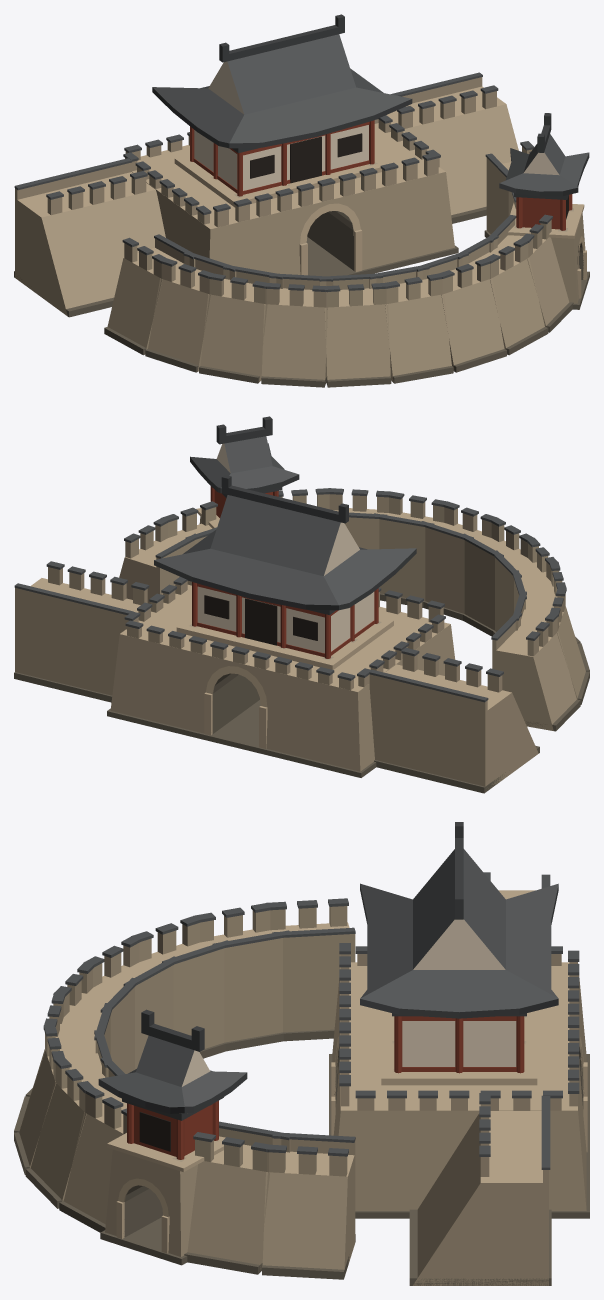
The model's file is K05b_far.glb.
3 views of the same model, one above another, from view 1: azimuth 30°, elevation 25°; view 2: azimuth 150°, elevation 25°; view 3: azimuth 270°, elevation 25° (orthographic). The views are drawn at different scales.
Parts seen in each view (by area): view 1: K05b_far; view 2: K05b_far; view 3: K05b_far.
Part boxes in pixels (x1=…): K05b_far: x1=14, y1=14, x2=589, y2=387; K05b_far: x1=14, y1=416, x2=589, y2=793; K05b_far: x1=14, y1=822, x2=589, y2=1285.
Bounding box in the file's own units: 48.8 × 21.68 × 40.58.
